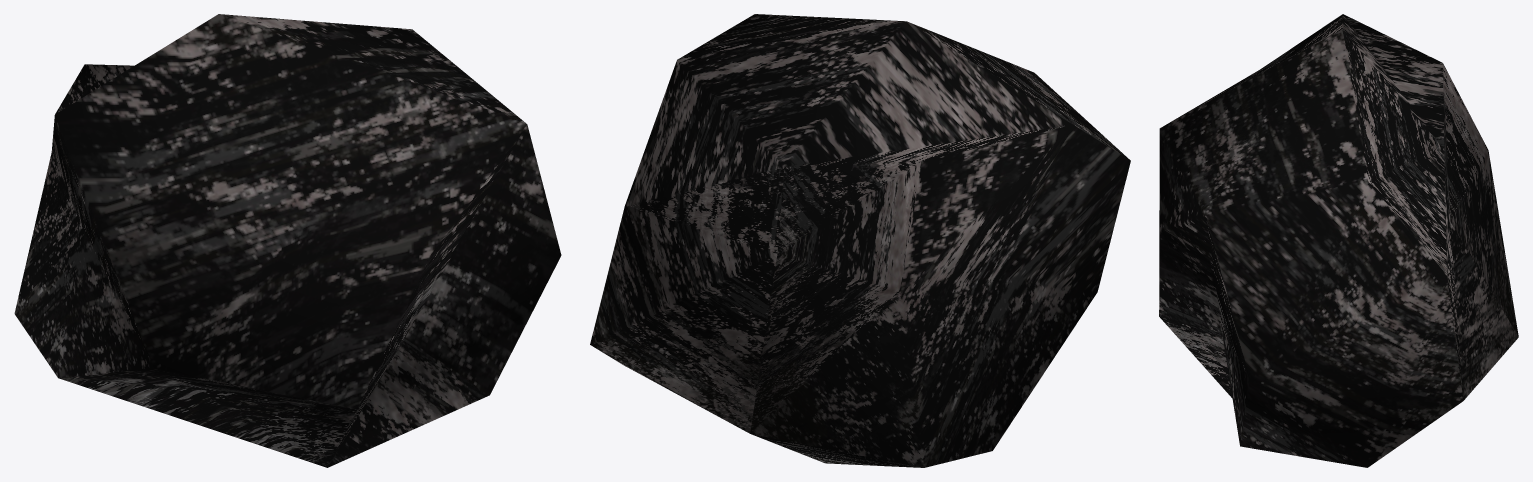
File: rockSmall.fbx
The picture shows the model from 3 angles, left to right: view 1: azimuth 30°, elevation 25°; view 2: azimuth 150°, elevation 25°; view 3: azimuth 270°, elevation 25°; orthographic projection. The views are drawn at different scales.
Visible parts, largest first — view 1: rockSmall; view 2: rockSmall; view 3: rockSmall.
Boxes of the visible parts, box(x1,y1,x2,y2) form: rockSmall: box(14, 14, 561, 467); rockSmall: box(590, 14, 1130, 467); rockSmall: box(1159, 14, 1518, 467).
Bounding box in the file's own units: 1.51 × 1.33 × 1.21.
